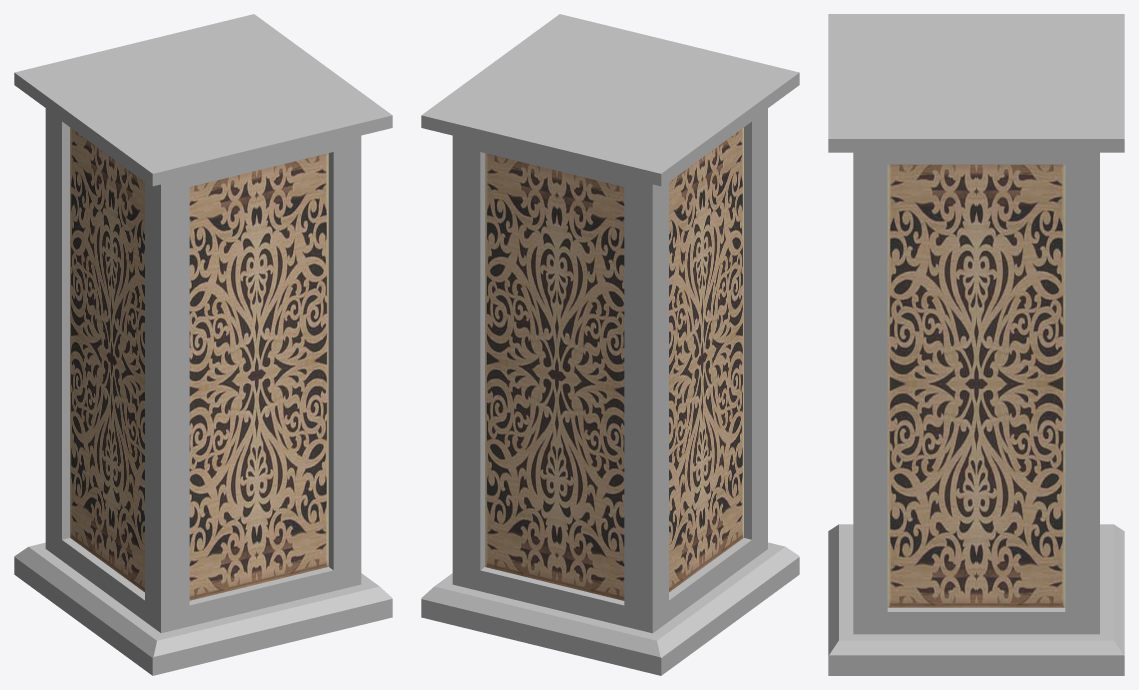
File: Stand.FBX
The picture shows the model from 3 angles, left to right: view 1: azimuth 30°, elevation 25°; view 2: azimuth 150°, elevation 25°; view 3: azimuth 270°, elevation 25°; orthographic projection. The views are drawn at different scales.
Visible parts, largest first — view 1: Stand; view 2: Stand; view 3: Stand.
Boxes of the visible parts, x1,y1,x2,y2 form: Stand: [14, 14, 392, 675]; Stand: [421, 14, 799, 675]; Stand: [828, 14, 1124, 675].
Size of the model in its own units: 23.62 by 23.62 by 47.24.
